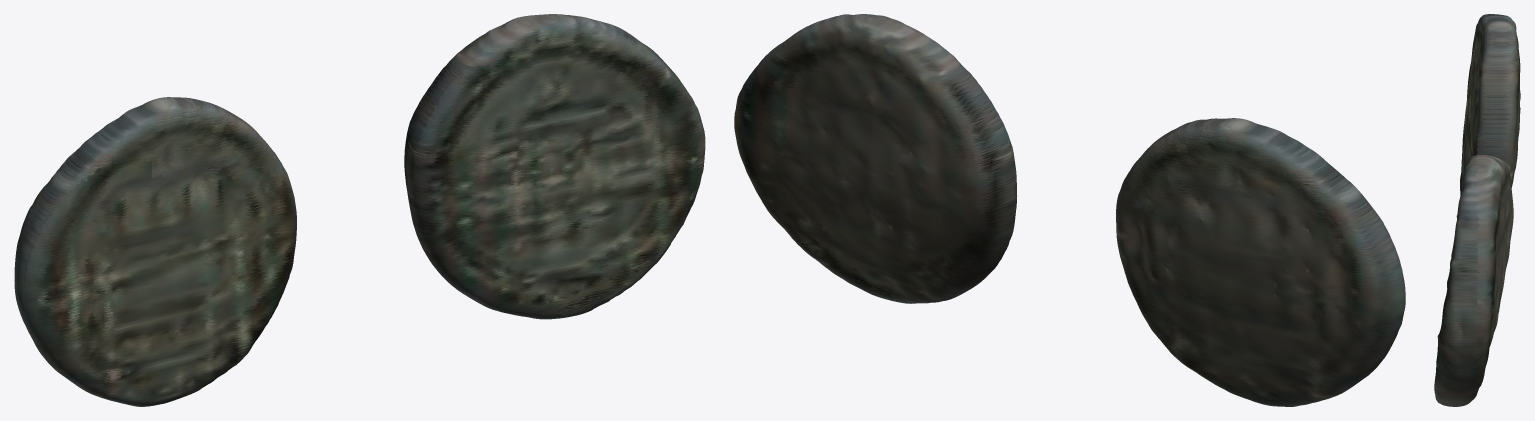
The model's file is kfl-2236.glb.
3 renders of one model, left to right at view 1: azimuth 30°, elevation 25°; view 2: azimuth 150°, elevation 25°; view 3: azimuth 270°, elevation 25°, orthographic. The views are drawn at different scales.
Visible parts, largest first — view 1: geometry_0; view 2: geometry_0; view 3: geometry_0.
Part boxes in pixels (box(x1,y1,x2,y2)): geometry_0: box(14, 14, 705, 406); geometry_0: box(734, 14, 1405, 406); geometry_0: box(1434, 14, 1520, 406).
Size of the model in its own units: 0.9924 by 0.4098 by 0.139.
1 material, 1 textured.
